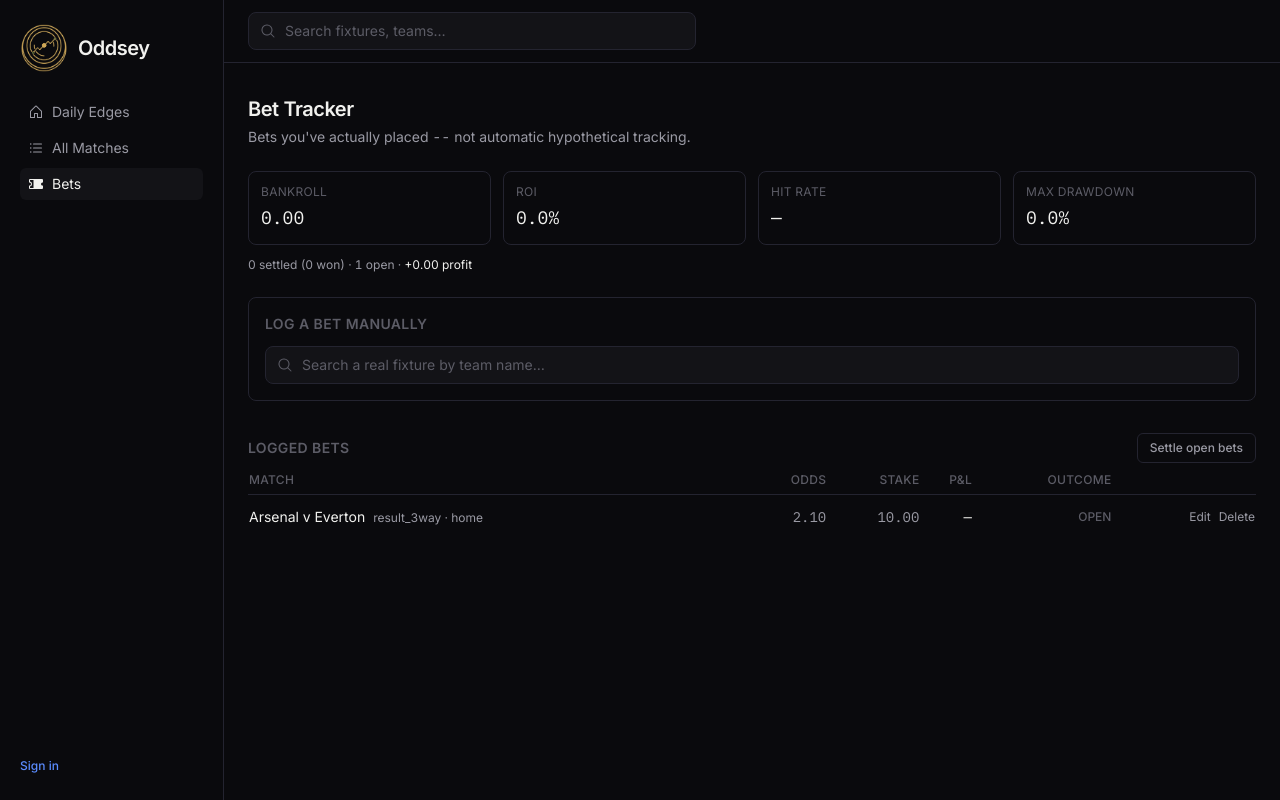
BetTrackerPage lets a user edit their own logged bet (W216) › shows an edit form pre-filled with the bet's current values, and saves via updateBet
This screenshot has width=1280, height=800.
expect the text "Arsenal v Everton" is shown: met, box 249,508 -> 483,525
Step 1. Click the button with aria-label "edit bet" → (1200, 517), box 1189,509 -> 1211,525
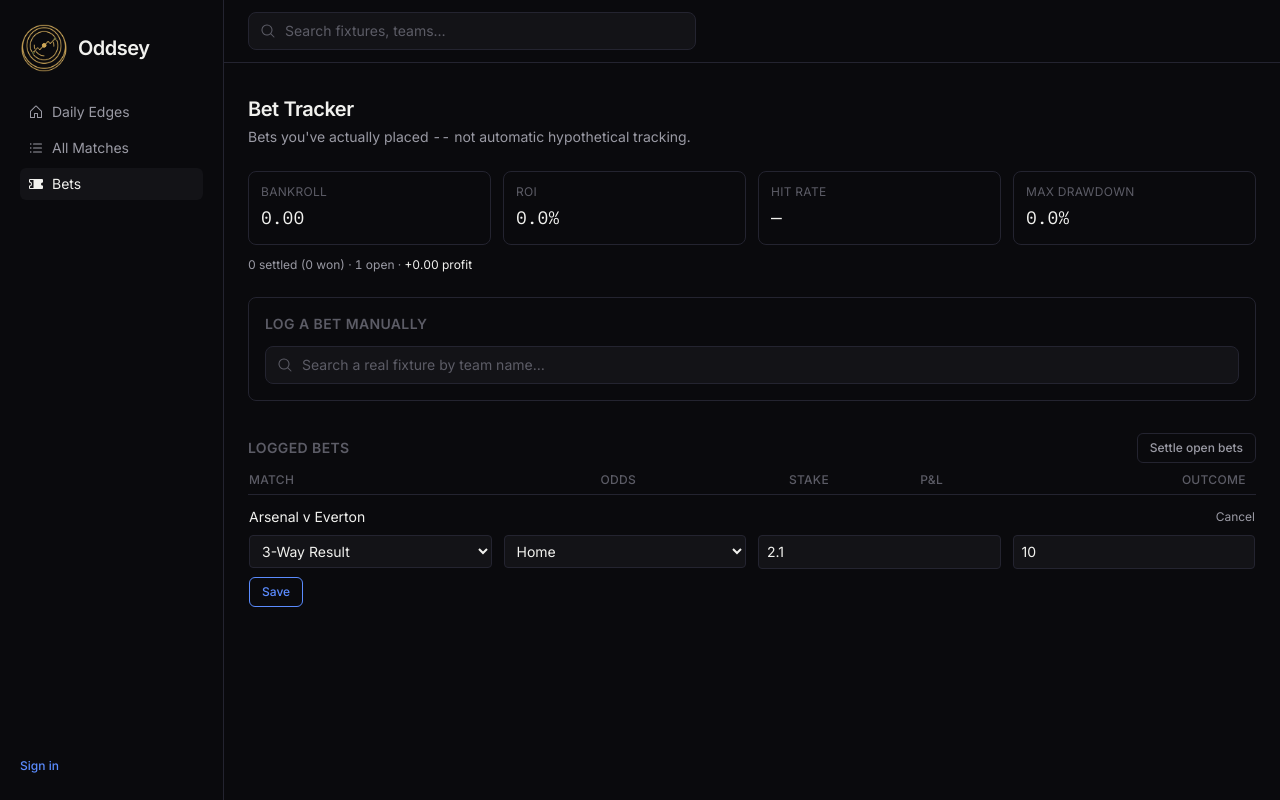
expect the 2nd field named "edit stake" holds "10": met
Step 2. Replace the text in the 2nd field named "edit stake" with "25" → (1134, 552), box 1012,535 -> 1255,569
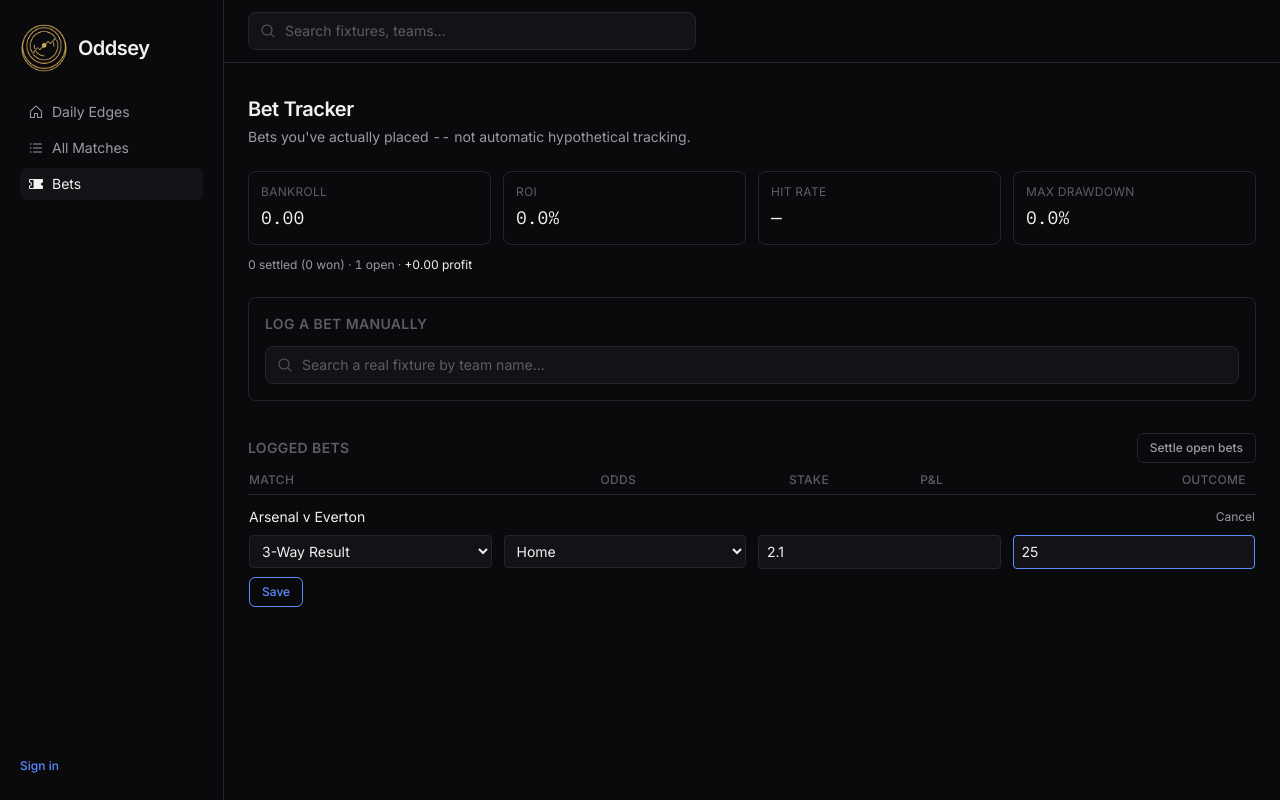
Step 3. Click the button with aria-label "save bet edit" → (276, 592), box 249,577 -> 303,607
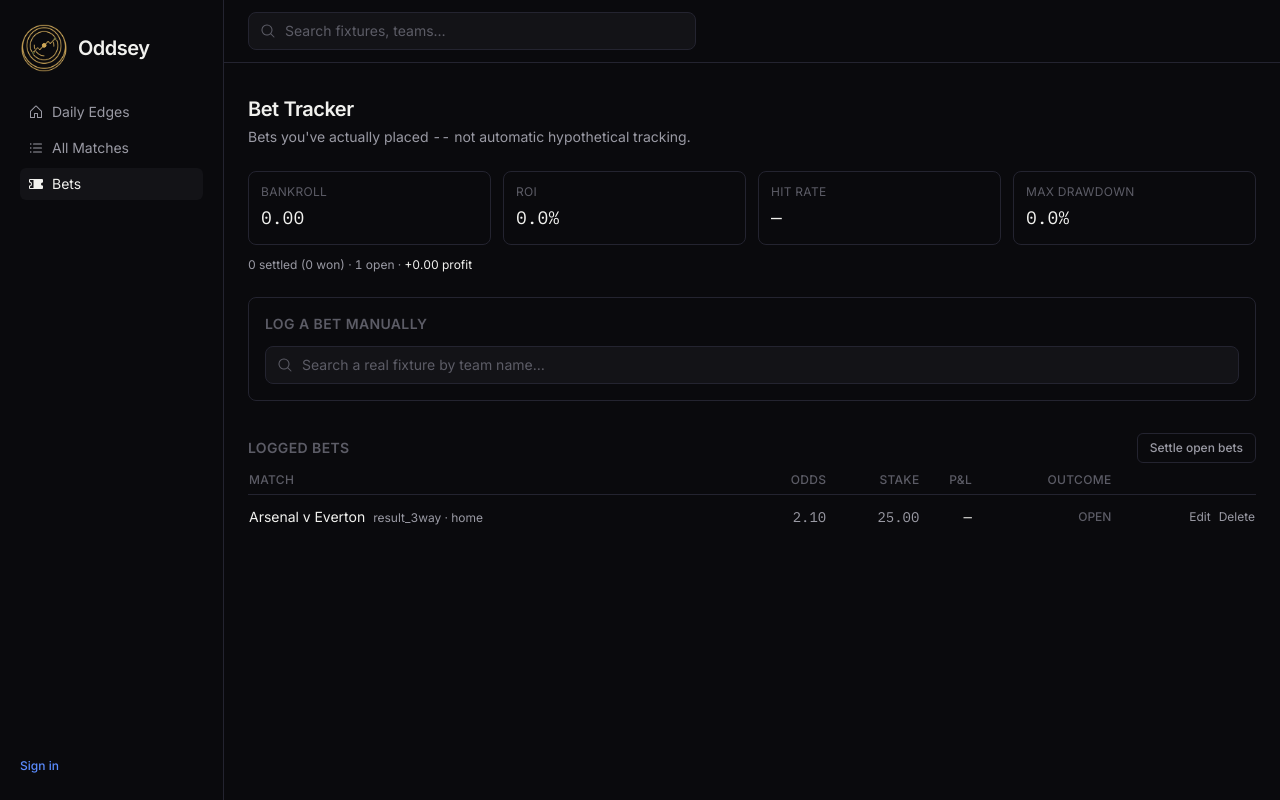
expect the text "25.00" is shown: met, box 827,494 -> 920,539
